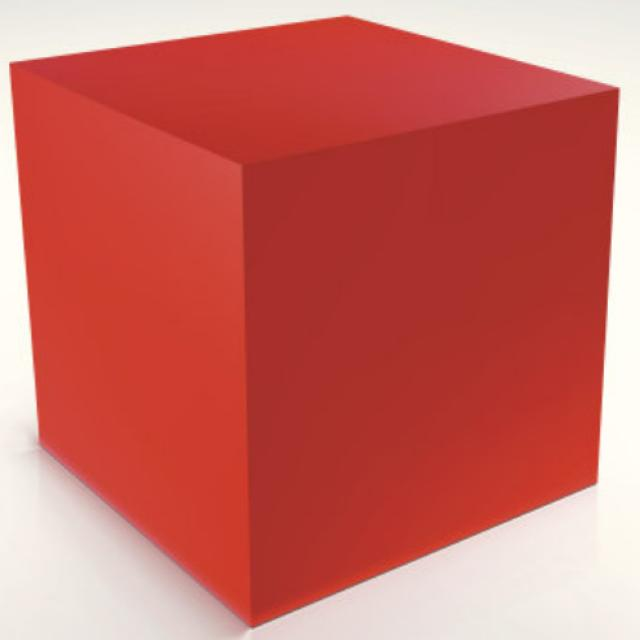red_block: (10, 14, 621, 624)
